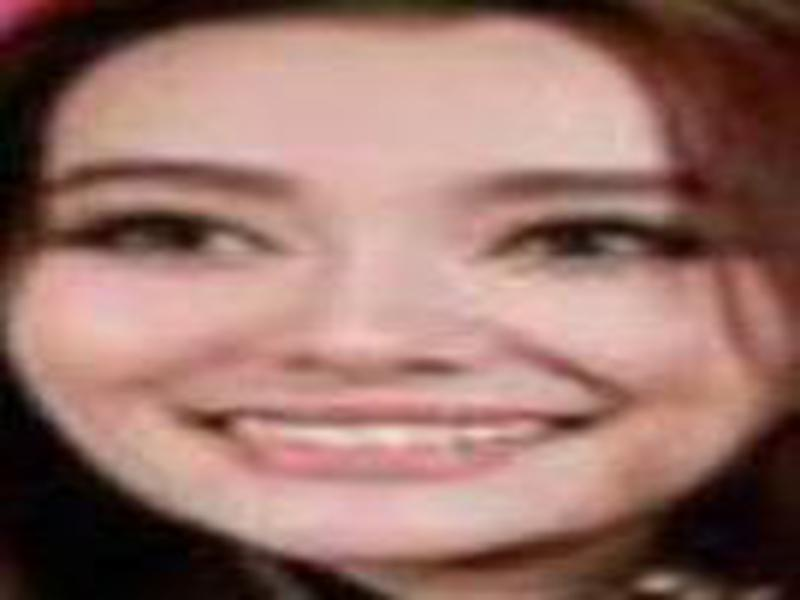without_mask: (34, 51, 751, 550)
